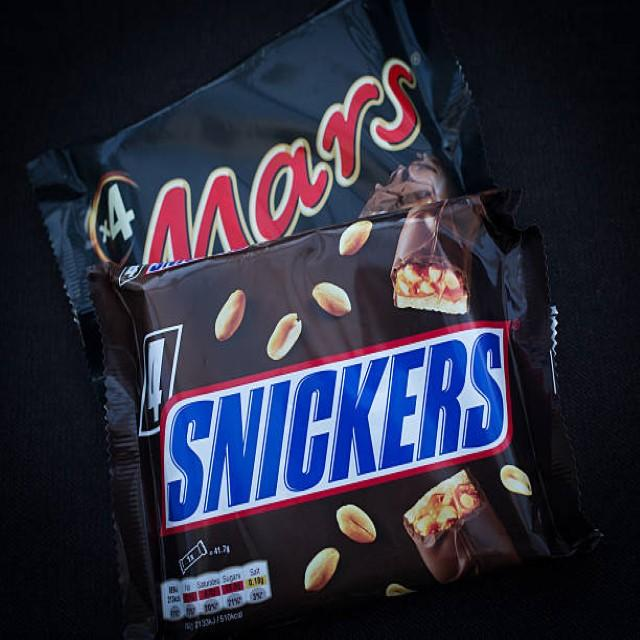mars_chocolate: (77, 12, 428, 305)
snickers_chocolate: (112, 240, 563, 607)
